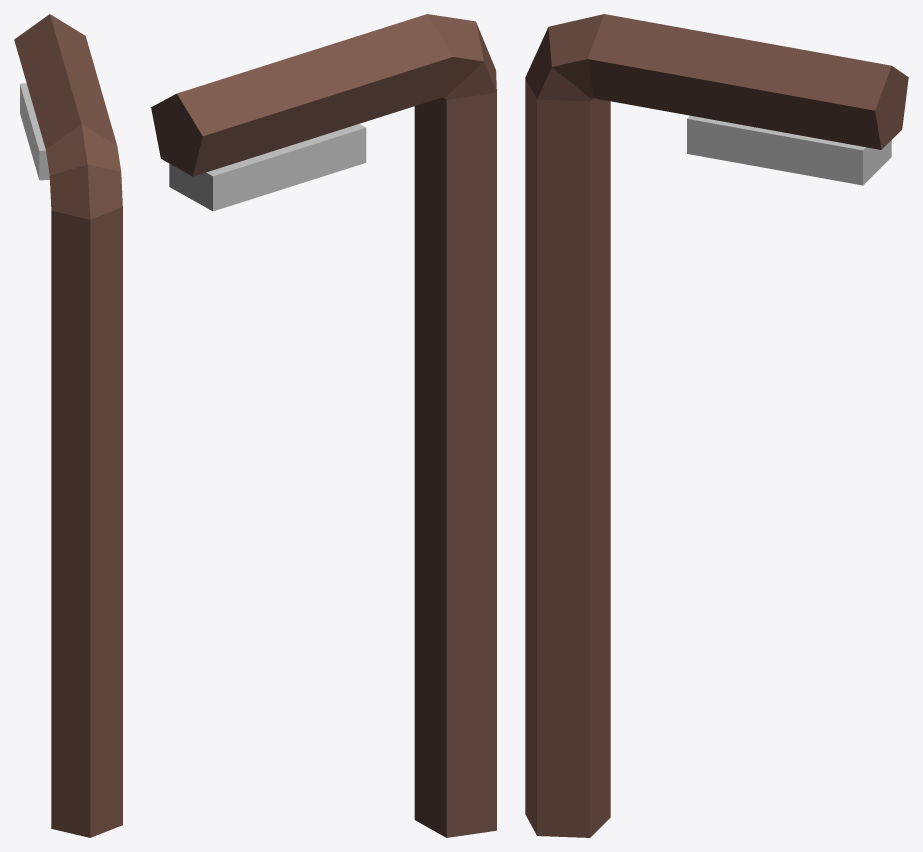
3 renders of one model, left to right at view 1: azimuth 30°, elevation 25°; view 2: azimuth 150°, elevation 25°; view 3: azimuth 270°, elevation 25°, orthographic. The views are drawn at different scales.
Parts seen in each view (by area): view 1: group_535024760, mesh_1088580684; view 2: group_535024760, mesh_1088580684; view 3: group_535024760, mesh_1088580684.
Part boxes in pixels (x1,y1,x2,y2): group_535024760: [14, 14, 122, 837]; mesh_1088580684: [20, 83, 49, 180]; group_535024760: [151, 14, 496, 837]; mesh_1088580684: [169, 124, 366, 211]; group_535024760: [525, 14, 908, 837]; mesh_1088580684: [687, 115, 891, 185].
Bounding box in the file's own units: 17.28 × 69.66 × 29.73.
